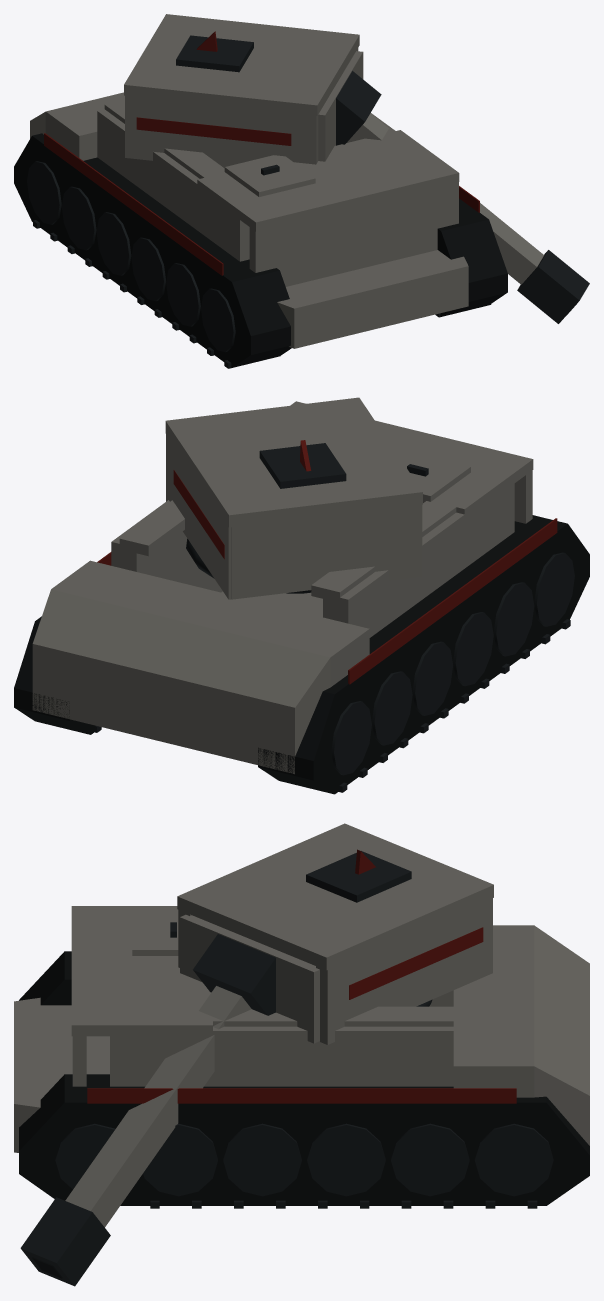
3 renders of one model, top to bottom at view 1: azimuth 30°, elevation 25°; view 2: azimuth 150°, elevation 25°; view 3: azimuth 270°, elevation 25°, orthographic. The views are drawn at different scales.
Parts seen in each view (by area): view 1: tank-fleet-armor, turret-fleet-armor, tank-fleet-rubber, tank-fleet-machine, cannon-recoil-painted, tank-fleet-red, turret-fleet-red, barrel-fleet-machine, turret-fleet-machine; view 2: tank-fleet-armor, turret-fleet-armor, tank-fleet-rubber, tank-fleet-machine, tank-fleet-red, turret-fleet-machine, turret-fleet-red; view 3: tank-fleet-armor, turret-fleet-armor, tank-fleet-rubber, tank-fleet-machine, cannon-recoil-painted, tank-fleet-red, barrel-fleet-machine, turret-fleet-machine, turret-fleet-red.
Boxes of the visible parts, x1=… form: tank-fleet-armor: x1=30, y1=92, x2=468, y2=348; turret-fleet-armor: x1=124, y1=14, x2=363, y2=167; tank-fleet-rubber: x1=14, y1=133, x2=507, y2=367; tank-fleet-machine: x1=27, y1=161, x2=491, y2=368; cannon-recoil-painted: x1=347, y1=113, x2=589, y2=323; tank-fleet-red: x1=44, y1=133, x2=479, y2=275; turret-fleet-red: x1=136, y1=31, x2=291, y2=145; barrel-fleet-machine: x1=336, y1=71, x2=381, y2=145; turret-fleet-machine: x1=176, y1=35, x2=253, y2=72; tank-fleet-armor: x1=32, y1=401, x2=533, y2=774; turret-fleet-armor: x1=165, y1=397, x2=422, y2=599; tank-fleet-rubber: x1=14, y1=515, x2=589, y2=794; tank-fleet-machine: x1=95, y1=464, x2=574, y2=792; tank-fleet-red: x1=97, y1=518, x2=557, y2=684; turret-fleet-machine: x1=259, y1=443, x2=346, y2=488; turret-fleet-red: x1=173, y1=440, x2=311, y2=559; tank-fleet-armor: x1=14, y1=906, x2=589, y2=1152; turret-fleet-armor: x1=177, y1=823, x2=493, y2=1044; tank-fleet-rubber: x1=19, y1=951, x2=589, y2=1205; tank-fleet-machine: x1=55, y1=922, x2=553, y2=1208; cannon-recoil-painted: x1=20, y1=986, x2=251, y2=1286; tank-fleet-red: x1=87, y1=1088, x2=516, y2=1103; barrel-fleet-machine: x1=193, y1=934, x2=275, y2=1015; turret-fleet-machine: x1=306, y1=851, x2=411, y2=902; turret-fleet-red: x1=349, y1=849, x2=483, y2=999.
Bounding box in the file's own units: 28.72 × 18.94 × 33.23.
